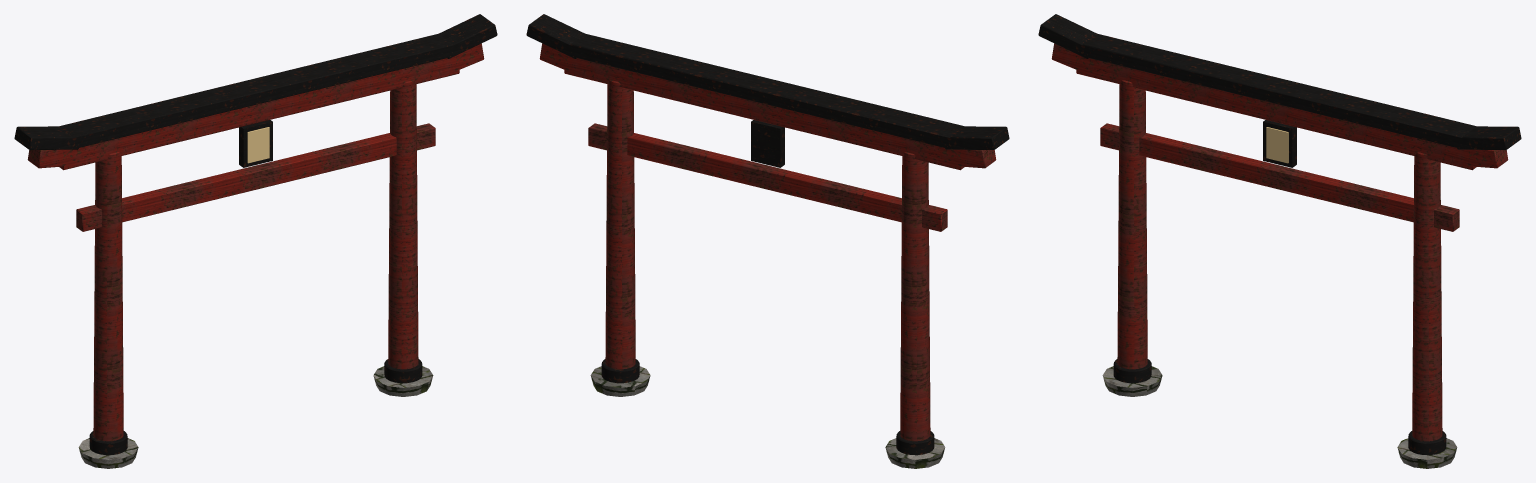
The model's file is Torii_Big.fbx.
The picture shows the model from 3 angles, left to right: view 1: azimuth 30°, elevation 25°; view 2: azimuth 150°, elevation 25°; view 3: azimuth 330°, elevation 25°; orthographic projection.
Visible parts, largest first — view 1: Torii_Big_LOD0; view 2: Torii_Big_LOD0; view 3: Torii_Big_LOD0.
Boxes of the visible parts, left/top/right/bottom form: Torii_Big_LOD0: left=14, top=14, right=497, bottom=468; Torii_Big_LOD0: left=526, top=14, right=1009, bottom=468; Torii_Big_LOD0: left=1038, top=14, right=1521, bottom=468.
Size of what is drawn, in the model's own units: 11.93 by 8.41 by 1.32.
